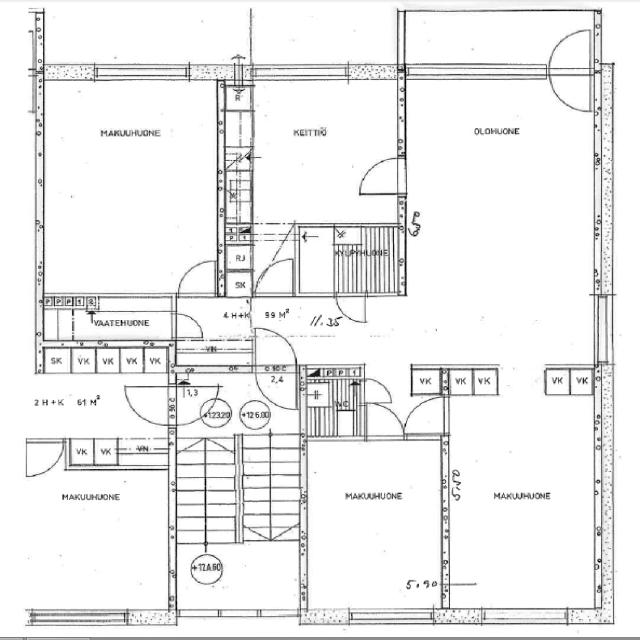door: (303, 375, 367, 441), (547, 62, 595, 115), (124, 382, 170, 428), (253, 323, 299, 369), (355, 154, 405, 196), (173, 256, 220, 300), (23, 439, 66, 482), (547, 28, 593, 68), (364, 400, 406, 441), (404, 395, 446, 436), (257, 256, 297, 296), (168, 308, 208, 343), (332, 291, 369, 326), (362, 376, 396, 407)
window: (410, 63, 550, 84), (30, 604, 130, 632), (255, 64, 349, 84), (349, 606, 435, 627), (482, 606, 568, 626), (97, 66, 190, 84), (176, 607, 223, 621), (217, 607, 261, 621)
zone: (403, 65, 600, 368), (44, 77, 221, 305), (446, 365, 602, 609), (220, 79, 398, 231), (303, 440, 445, 620), (295, 224, 405, 297), (38, 296, 177, 347), (35, 345, 173, 385), (168, 371, 257, 431), (302, 376, 366, 441), (172, 349, 256, 380), (545, 369, 596, 395), (410, 368, 444, 397)
